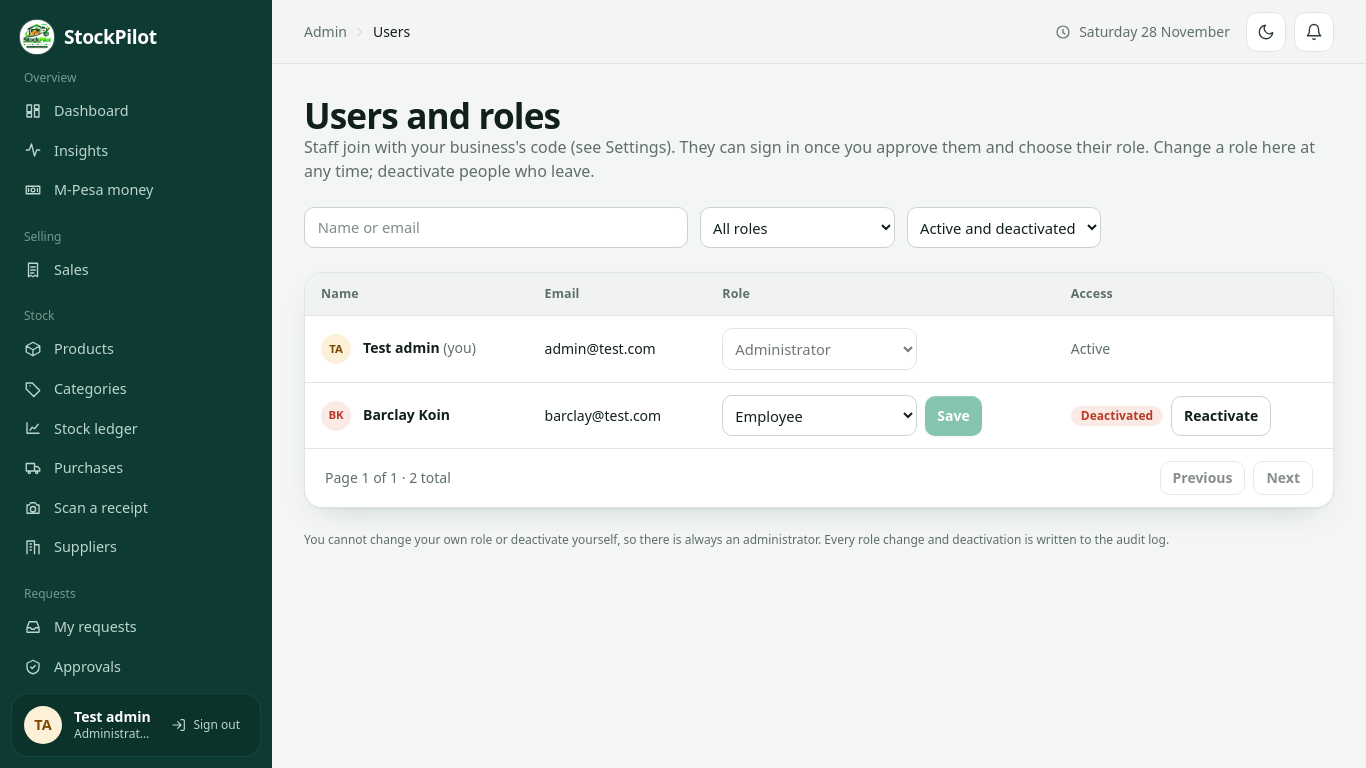
Test case: users › let an administrator change someone's role, but not their own
This screenshot has width=1366, height=768.
Expected: the dropdown named "Role for Test admin" in the row of "(you)" is disabled, x1=722 y1=328 x2=917 y2=370
Select "Sales Attendant" in the 4th dropdown named "Role for Barclay Koin" at (820,416), box x1=722 y1=395 x2=917 y2=436
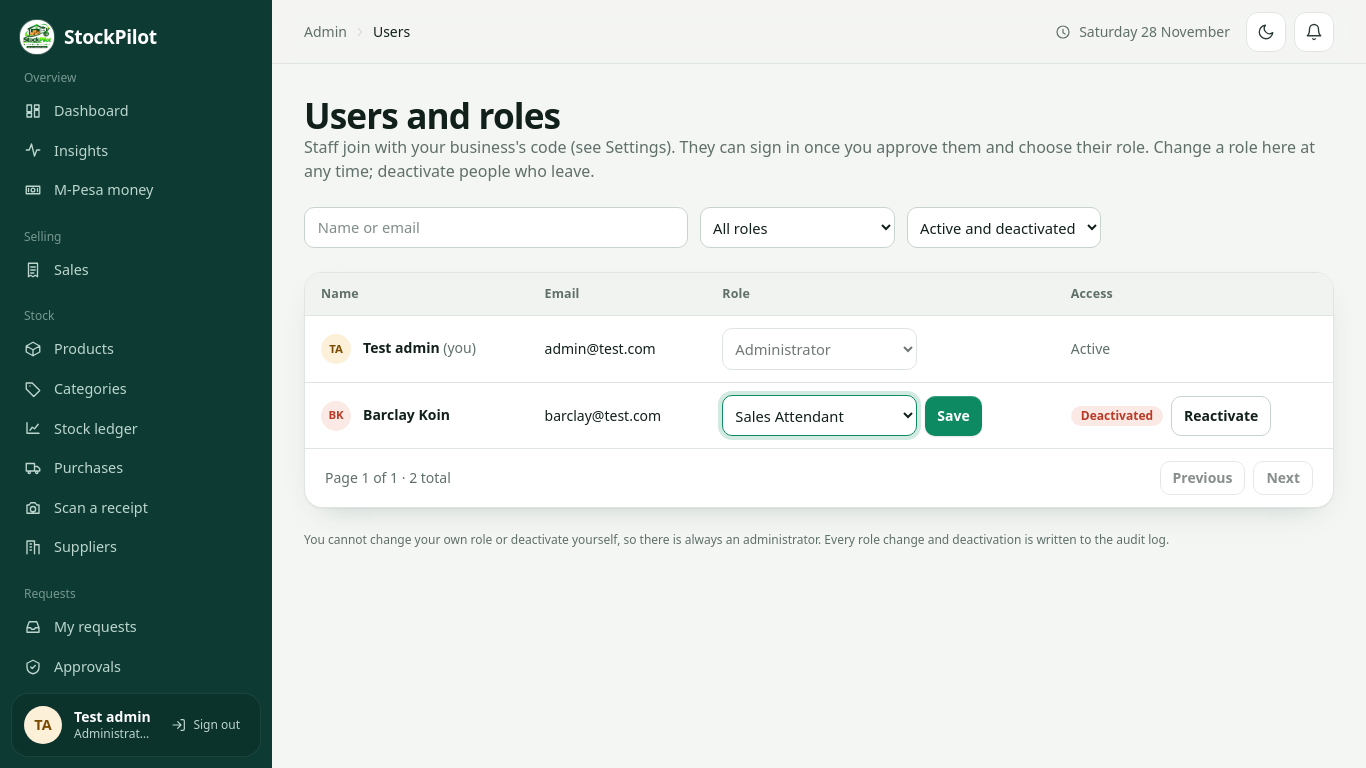
Click the button with aria-label "Save role for Barclay Koin" at (954,416), box x1=925 y1=396 x2=982 y2=436
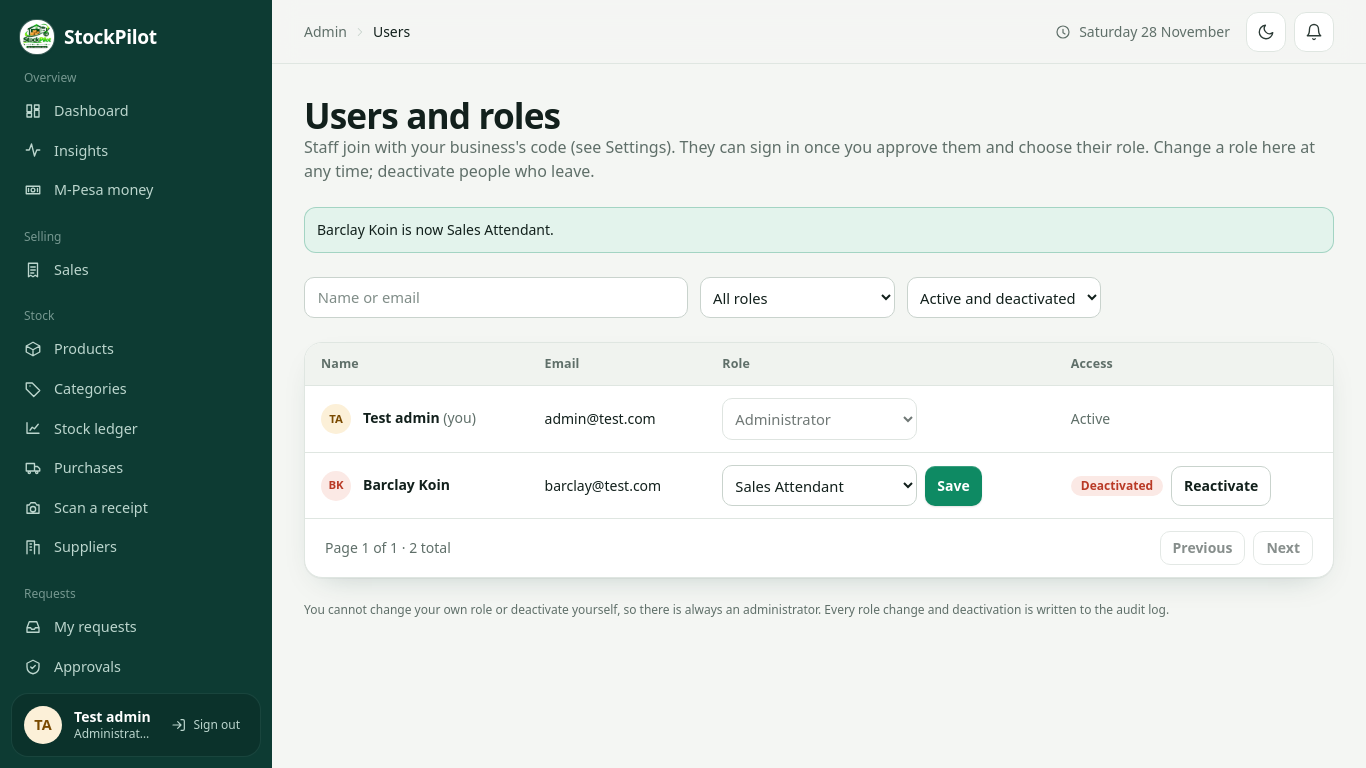
Expected: the text "Barclay Koin is now Sales Attendant." is shown, x1=304 y1=207 x2=1334 y2=253
